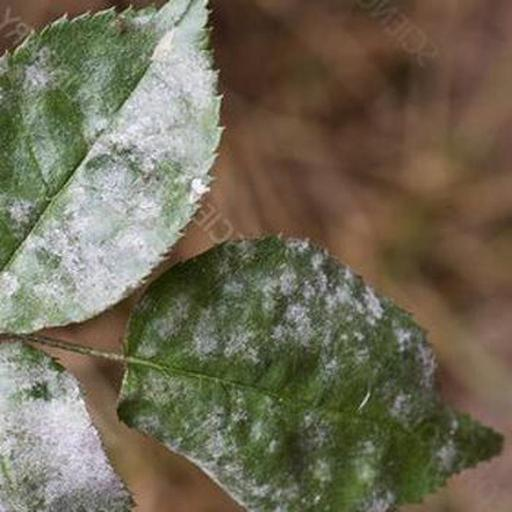powdery_mildew: (118, 238, 501, 512), (0, 0, 221, 332), (0, 342, 132, 512)
